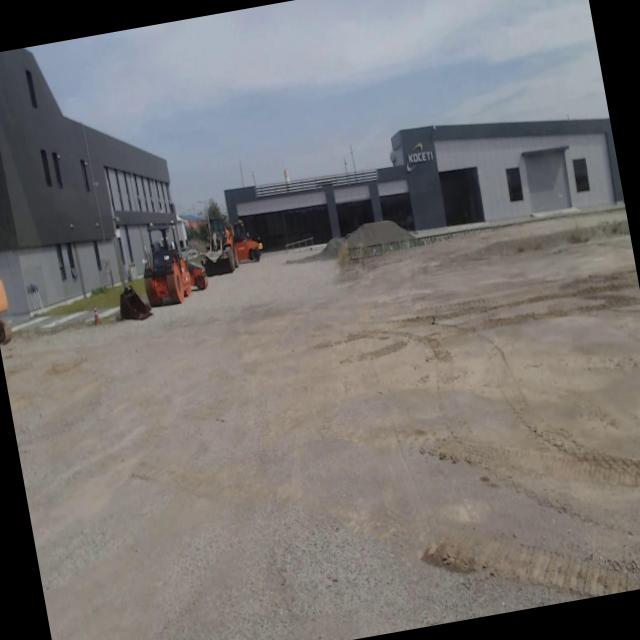white-sand: (0, 215, 640, 640)
